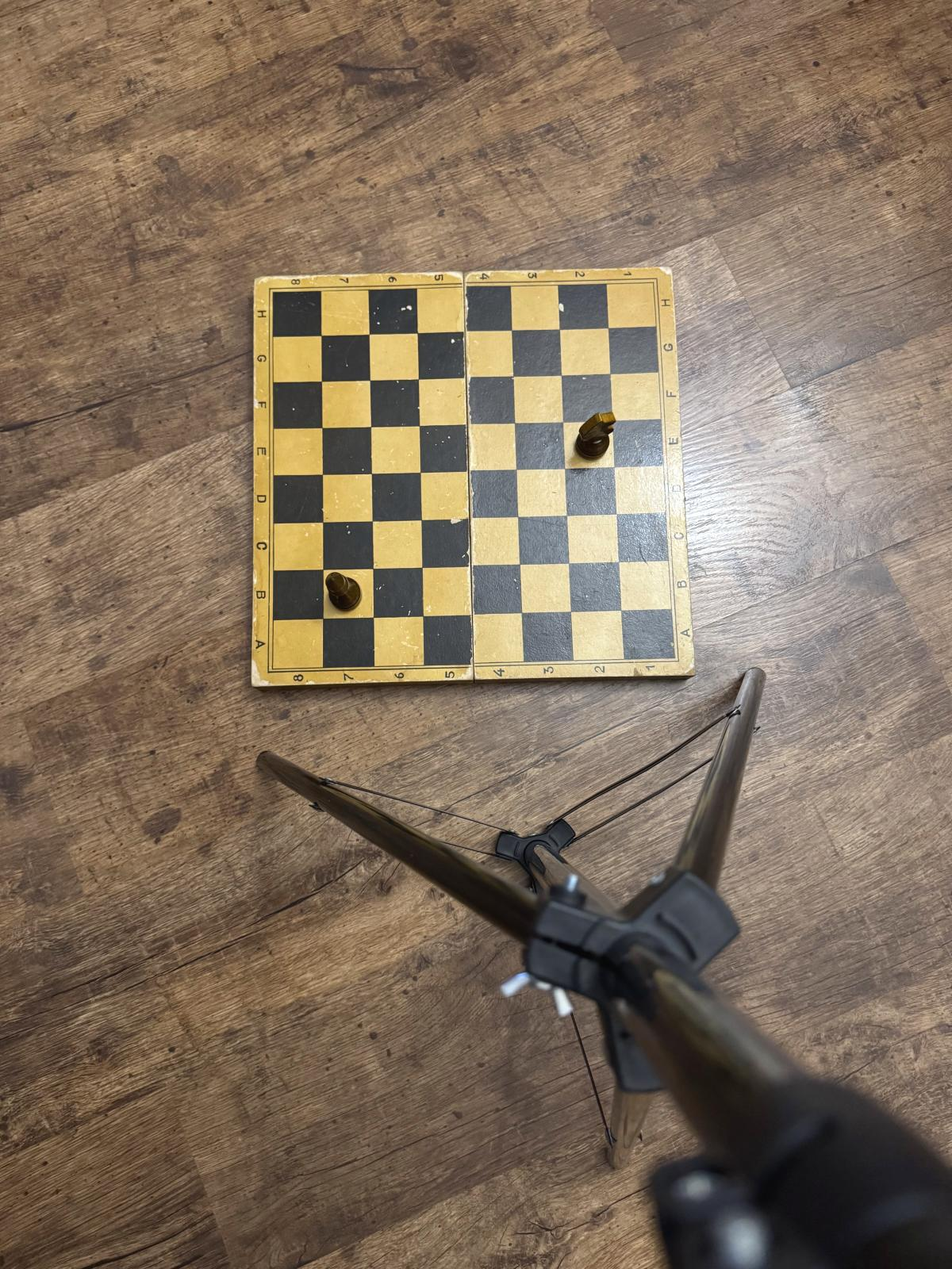Chess-Board: (272, 283, 675, 669)
